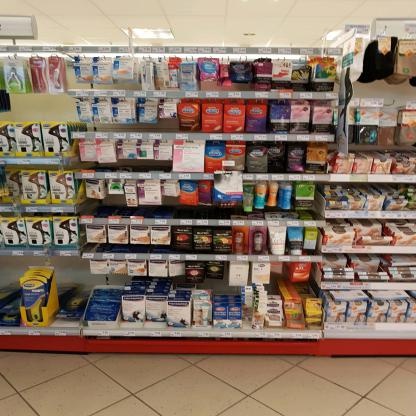Void: (14, 94, 74, 124), (358, 80, 416, 102), (57, 257, 87, 287), (0, 256, 19, 286), (25, 256, 53, 264)
